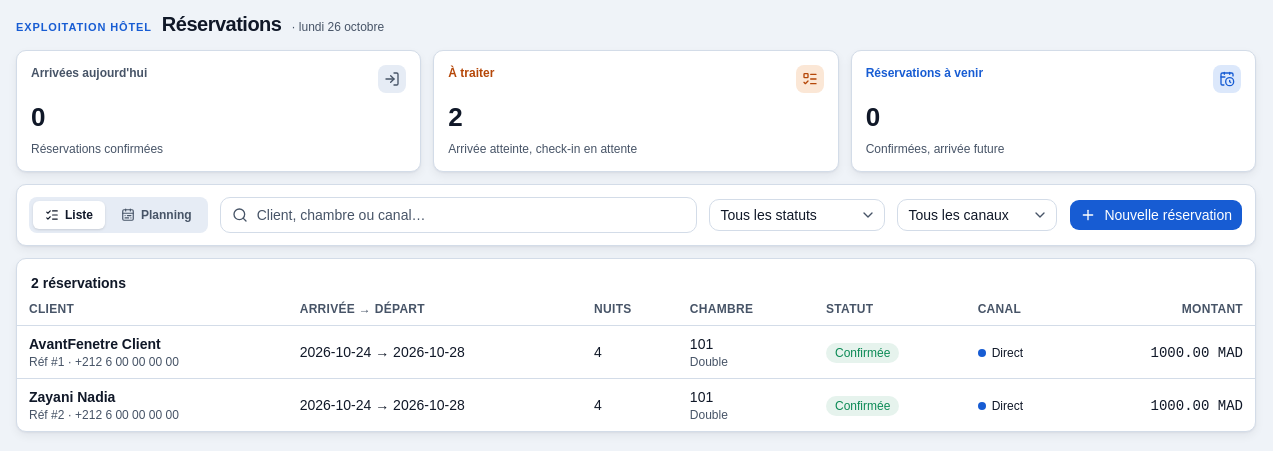
Scenario: ReservationsCalendarPage — Liste (vue par défaut) › filtre par recherche texte
Type "Zayani" into the field named "Rechercher une réservation" at (459, 215), box [220,197,697,233]
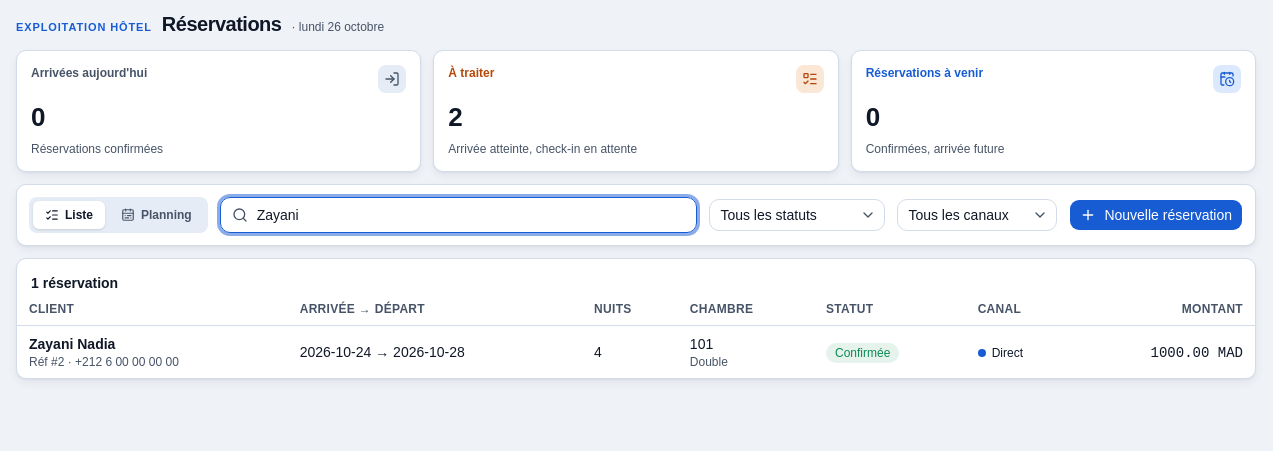
Expected: the text "Zayani Nadia" is shown, [29,336,115,352]
Expected: the button "AvantFenetre Client" is gone
